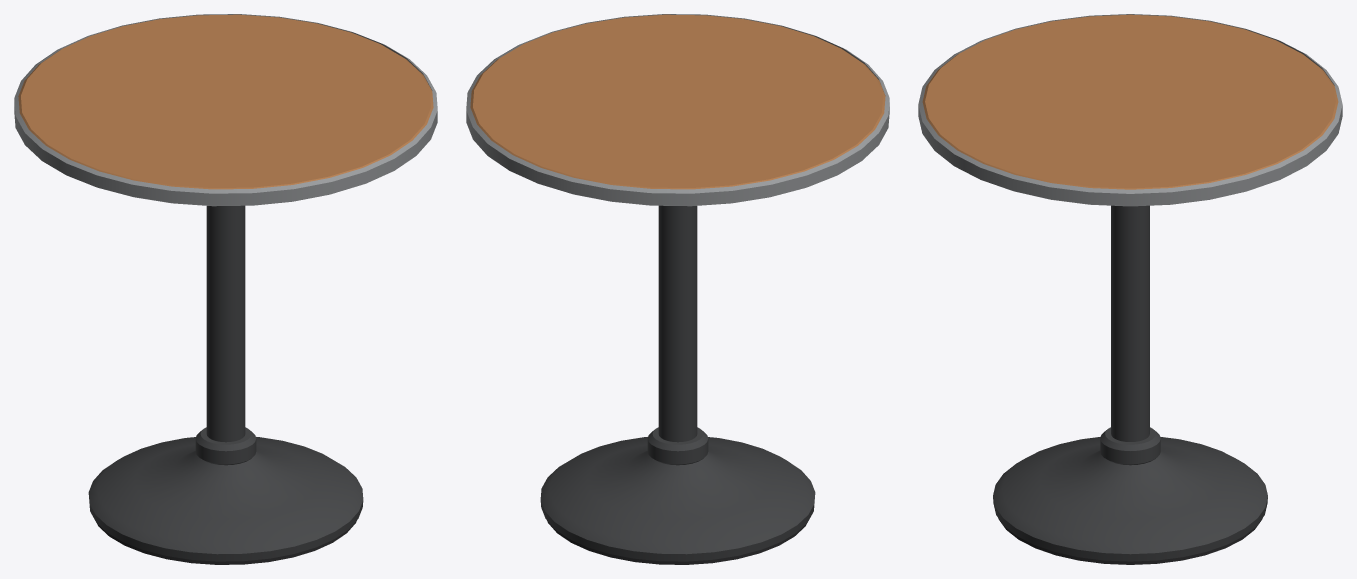
The model's file is CafeTable.fbx.
3 views of the same model, side by side, from view 1: azimuth 30°, elevation 25°; view 2: azimuth 150°, elevation 25°; view 3: azimuth 270°, elevation 25° (orthographic).
Parts seen in each view (by area): view 1: CafeTable_Mesh; view 2: CafeTable_Mesh; view 3: CafeTable_Mesh.
Part boxes in pixels (<box>): CafeTable_Mesh: <box>14,14,437,564</box>; CafeTable_Mesh: <box>466,14,889,564</box>; CafeTable_Mesh: <box>918,14,1342,564</box>.
Bounding box in the file's own units: 0.7 × 0.74 × 0.7.
